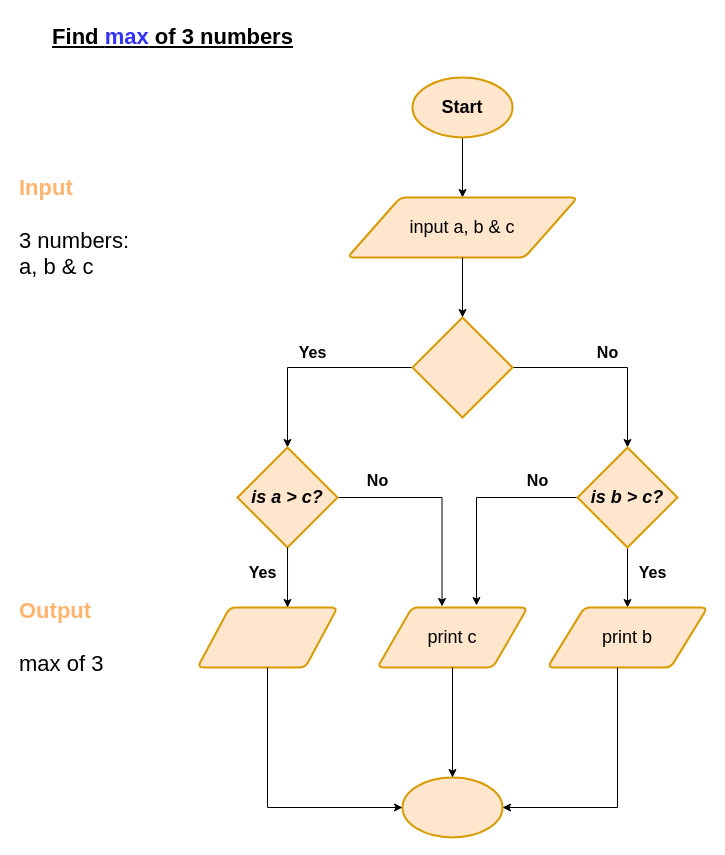
Image size: 725x855. Some labels were removed from this diagram. The shapes that lost their labels are listed below. From the top down, each one's box as (x1, y1, x2, y2) in pixels, then its label:
(411, 316, 513, 418): is a > b?
(196, 606, 338, 668): print a
(401, 776, 503, 838): Exit
